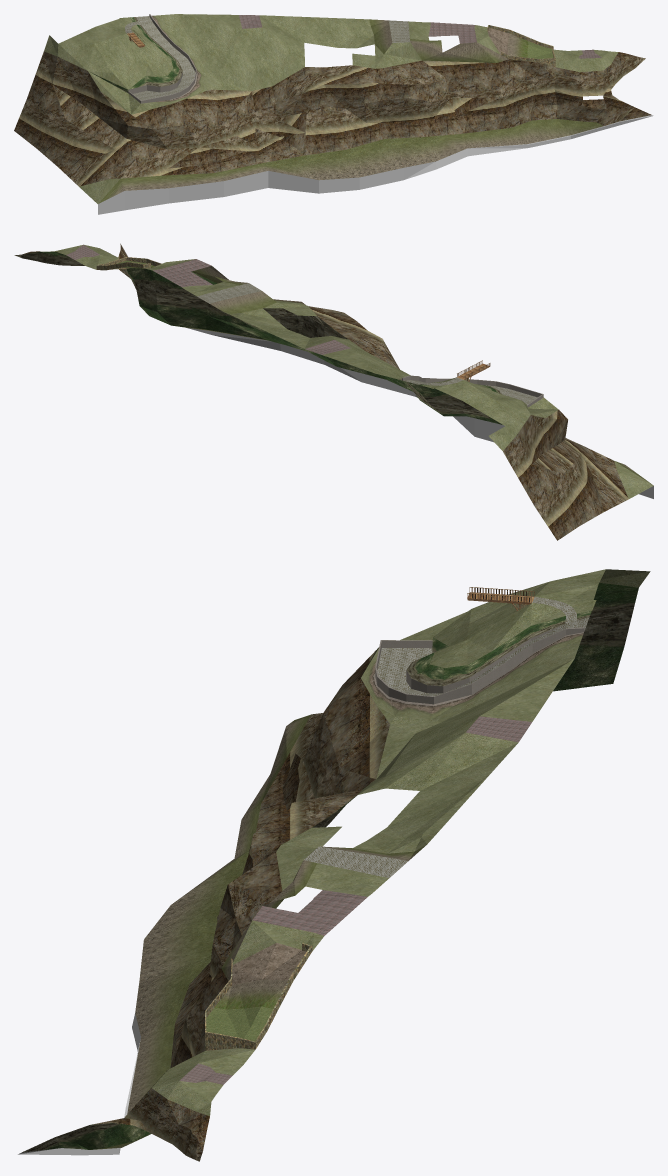
The model's file is cehollyhil06.obj.
The picture shows the model from 3 angles, top to bottom: view 1: azimuth 30°, elevation 25°; view 2: azimuth 150°, elevation 25°; view 3: azimuth 270°, elevation 25°; orthographic projection. The views are drawn at different scales.
Visible parts, largest first — view 1: CEhollyhil06; view 2: CEhollyhil06; view 3: CEhollyhil06.
Part boxes in pixels (bbox=[...]): CEhollyhil06: bbox=[14, 14, 653, 214]; CEhollyhil06: bbox=[14, 243, 653, 540]; CEhollyhil06: bbox=[18, 569, 650, 1161].
Size of the model in its own units: 306 by 66.84 by 159.
